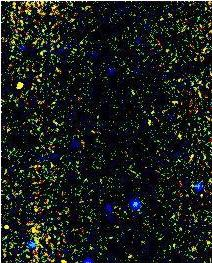star: (5, 71, 35, 101)
